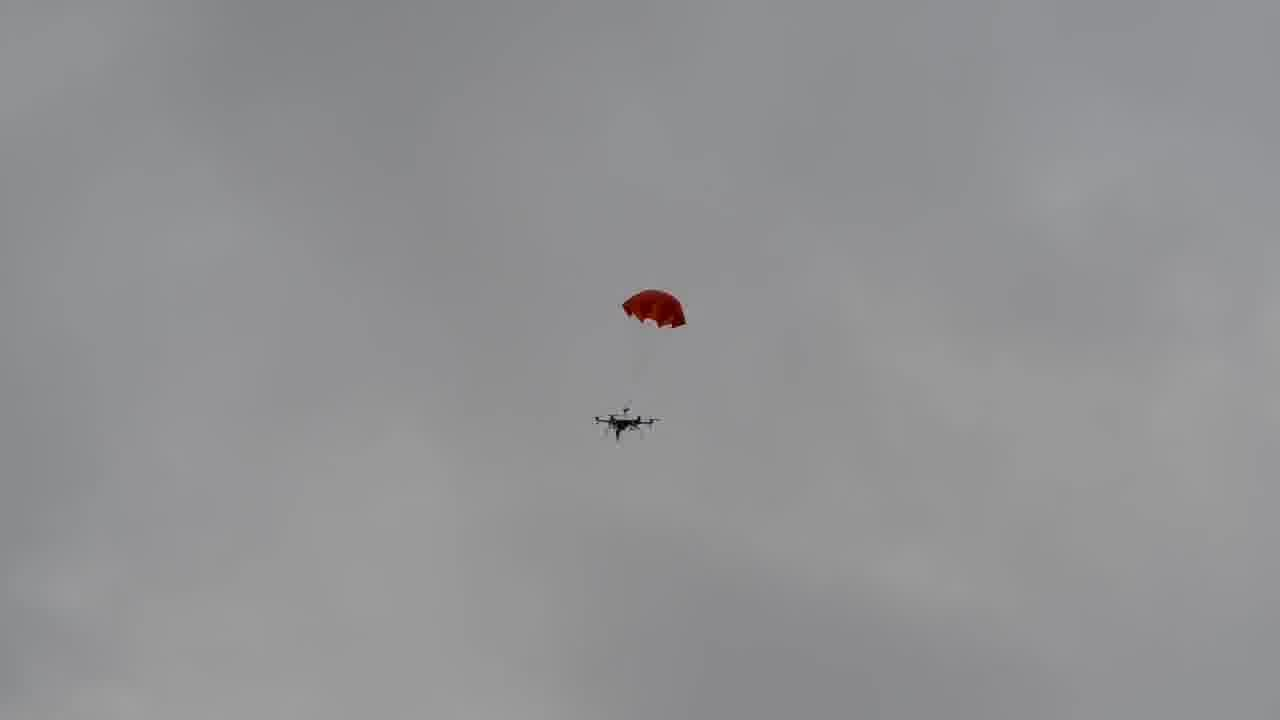drone: (594, 398, 662, 442)
